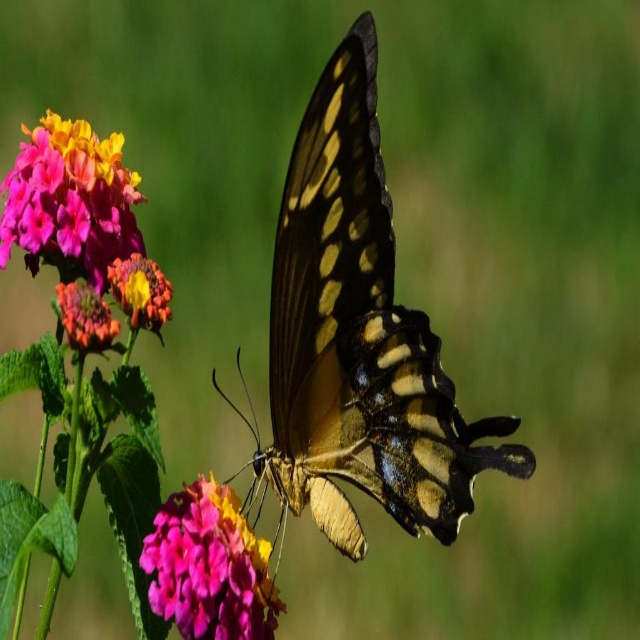Butterfly: (231, 33, 512, 603)
